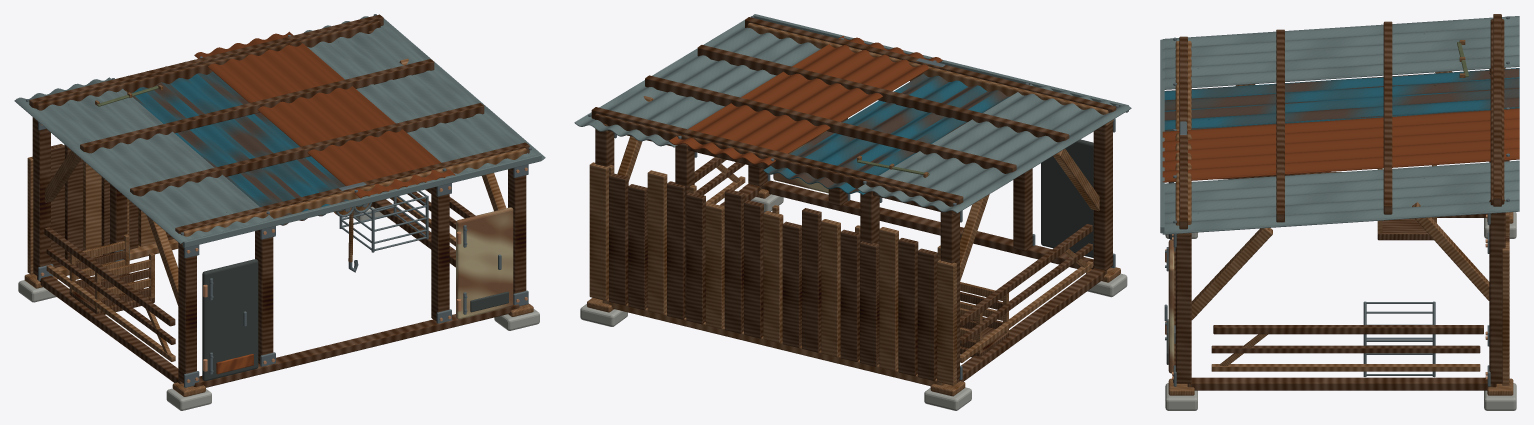
Rendered from scavenger_depot.glb.
3 views of the same model, side by side, from view 1: azimuth 30°, elevation 25°; view 2: azimuth 150°, elevation 25°; view 3: azimuth 270°, elevation 25° (orthographic). The views are drawn at different scales.
Parts seen in each view (by area): view 1: MaterialBatch_Scavenger_depot_reclaimed_timber, MaterialBatch_Scavenger_depot_mismatched_galvanized_sheets, MaterialBatch_Scavenger_depot_faded_blue_enamel, MaterialBatch_Scavenger_depot_ochre_enamel_patch, MaterialBatch_Scavenger_depot_sun-faded_boards, Chipped cream appliance door, MaterialBatch_Scavenger_depot_blackened_iron, MaterialBatch_Scavenger_depot_broken_concrete_feet, MaterialBatch_Scavenger_depot_oxide_fasteners; view 2: MaterialBatch_Scavenger_depot_reclaimed_timber, MaterialBatch_Scavenger_depot_sun-faded_boards, MaterialBatch_Scavenger_depot_mismatched_galvanized_sheets, MaterialBatch_Scavenger_depot_faded_blue_enamel, MaterialBatch_Scavenger_depot_ochre_enamel_patch, MaterialBatch_Scavenger_depot_broken_concrete_feet, MaterialBatch_Scavenger_depot_blackened_iron; view 3: MaterialBatch_Scavenger_depot_mismatched_galvanized_sheets, MaterialBatch_Scavenger_depot_reclaimed_timber, MaterialBatch_Scavenger_depot_ochre_enamel_patch, MaterialBatch_Scavenger_depot_faded_blue_enamel, MaterialBatch_Scavenger_depot_sun-faded_boards, MaterialBatch_Scavenger_depot_blackened_iron, MaterialBatch_Scavenger_depot_broken_concrete_feet, Chipped cream appliance door.
Boxes of the visible parts, box(x1,y1,x2,y2) form: MaterialBatch_Scavenger_depot_reclaimed_timber: box(29, 14, 529, 387); MaterialBatch_Scavenger_depot_mismatched_galvanized_sheets: box(14, 14, 545, 247); MaterialBatch_Scavenger_depot_faded_blue_enamel: box(128, 61, 508, 381); MaterialBatch_Scavenger_depot_ochre_enamel_patch: box(194, 31, 455, 374); MaterialBatch_Scavenger_depot_sun-faded_boards: box(24, 58, 533, 396); Chipped cream appliance door: box(456, 207, 513, 319); MaterialBatch_Scavenger_depot_blackened_iron: box(26, 14, 531, 387); MaterialBatch_Scavenger_depot_broken_concrete_feet: box(18, 207, 539, 410); MaterialBatch_Scavenger_depot_oxide_fasteners: box(40, 124, 527, 382); MaterialBatch_Scavenger_depot_reclaimed_timber: box(591, 17, 1116, 382); MaterialBatch_Scavenger_depot_sun-faded_boards: box(587, 23, 1120, 396); MaterialBatch_Scavenger_depot_mismatched_galvanized_sheets: box(574, 14, 1131, 213); MaterialBatch_Scavenger_depot_faded_blue_enamel: box(763, 73, 1093, 257); MaterialBatch_Scavenger_depot_ochre_enamel_patch: box(669, 36, 942, 165); MaterialBatch_Scavenger_depot_broken_concrete_feet: box(580, 194, 1127, 410); MaterialBatch_Scavenger_depot_blackened_iron: box(588, 16, 1118, 380); MaterialBatch_Scavenger_depot_mismatched_galvanized_sheets: box(1160, 16, 1519, 234); MaterialBatch_Scavenger_depot_reclaimed_timber: box(1173, 14, 1509, 390); MaterialBatch_Scavenger_depot_ochre_enamel_patch: box(1162, 108, 1519, 182); MaterialBatch_Scavenger_depot_faded_blue_enamel: box(1164, 68, 1519, 364); MaterialBatch_Scavenger_depot_sun-faded_boards: box(1168, 40, 1513, 395); MaterialBatch_Scavenger_depot_blackened_iron: box(1164, 16, 1509, 386); MaterialBatch_Scavenger_depot_broken_concrete_feet: box(1165, 212, 1516, 410); Chipped cream appliance door: box(1168, 239, 1174, 373).
Size of the model in its own units: 23.63 by 12.17 by 18.72.
Materials: 10 (7 with a texture image).
